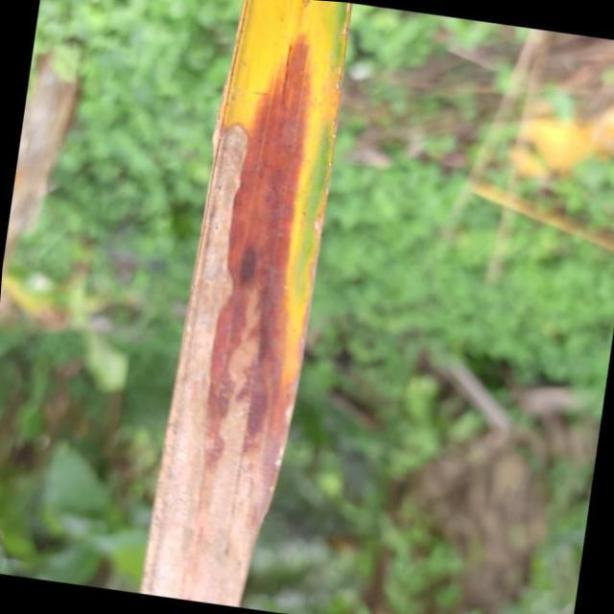Megnesium: (141, 0, 350, 614)
